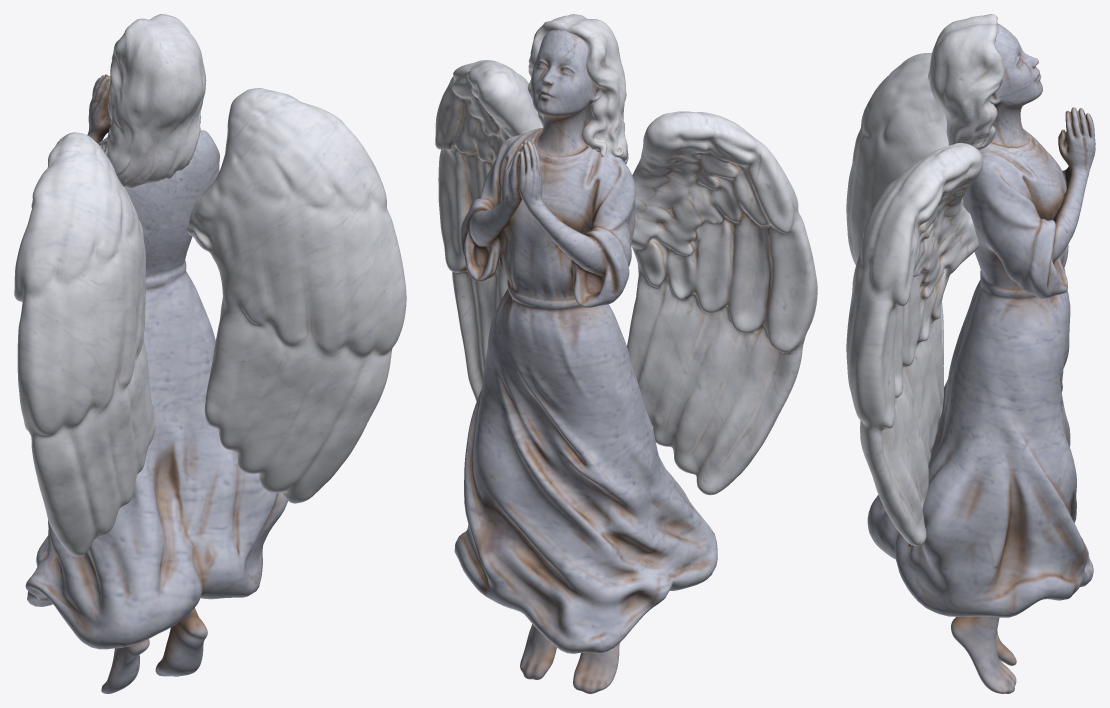
Rendered from aniel.gltf.
The picture shows the model from 3 angles, left to right: view 1: azimuth 30°, elevation 25°; view 2: azimuth 150°, elevation 25°; view 3: azimuth 270°, elevation 25°; orthographic projection. The views are drawn at different scales.
Visible parts, largest first — view 1: aniel; view 2: aniel; view 3: aniel.
Part boxes in pixels (box(x1,y1,x2,y2)): aniel: box(14, 14, 406, 693); aniel: box(435, 14, 817, 693); aniel: box(846, 14, 1095, 693).
Size of the model in its own units: 1.05 by 1.76 by 0.6037.
3 materials, 3 textured.
